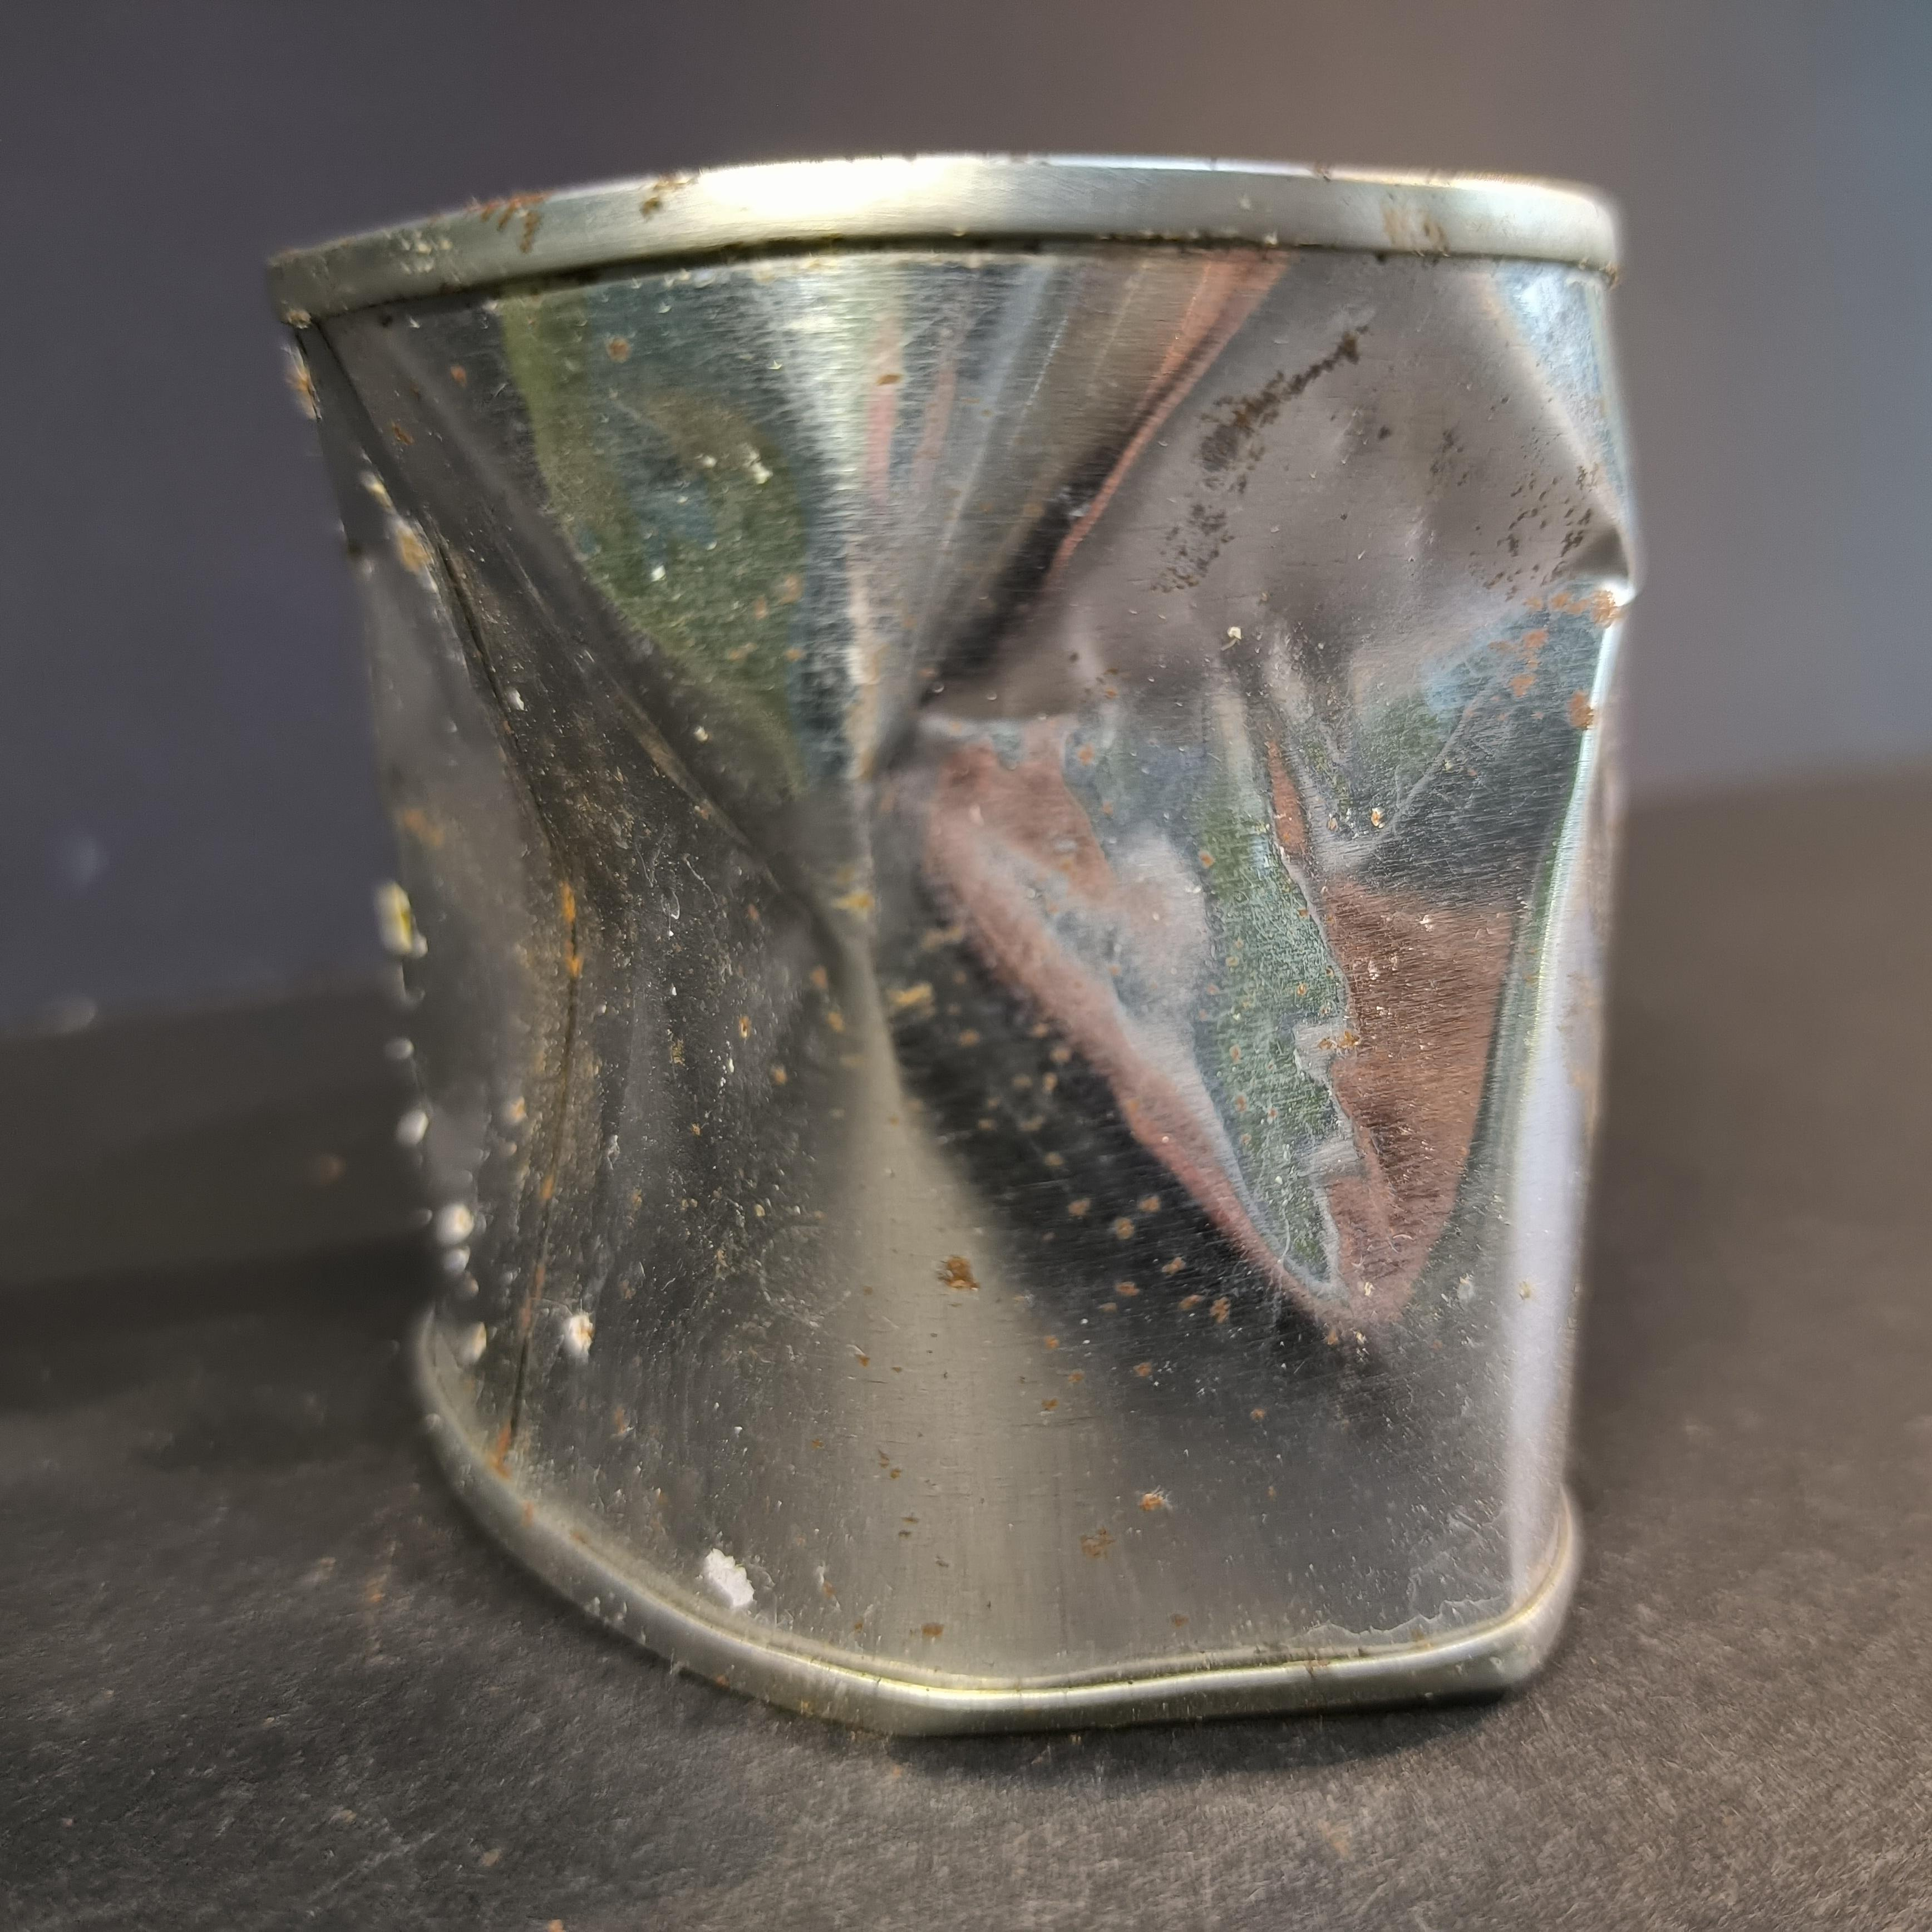Major Defect: (260, 153, 1645, 1747)
